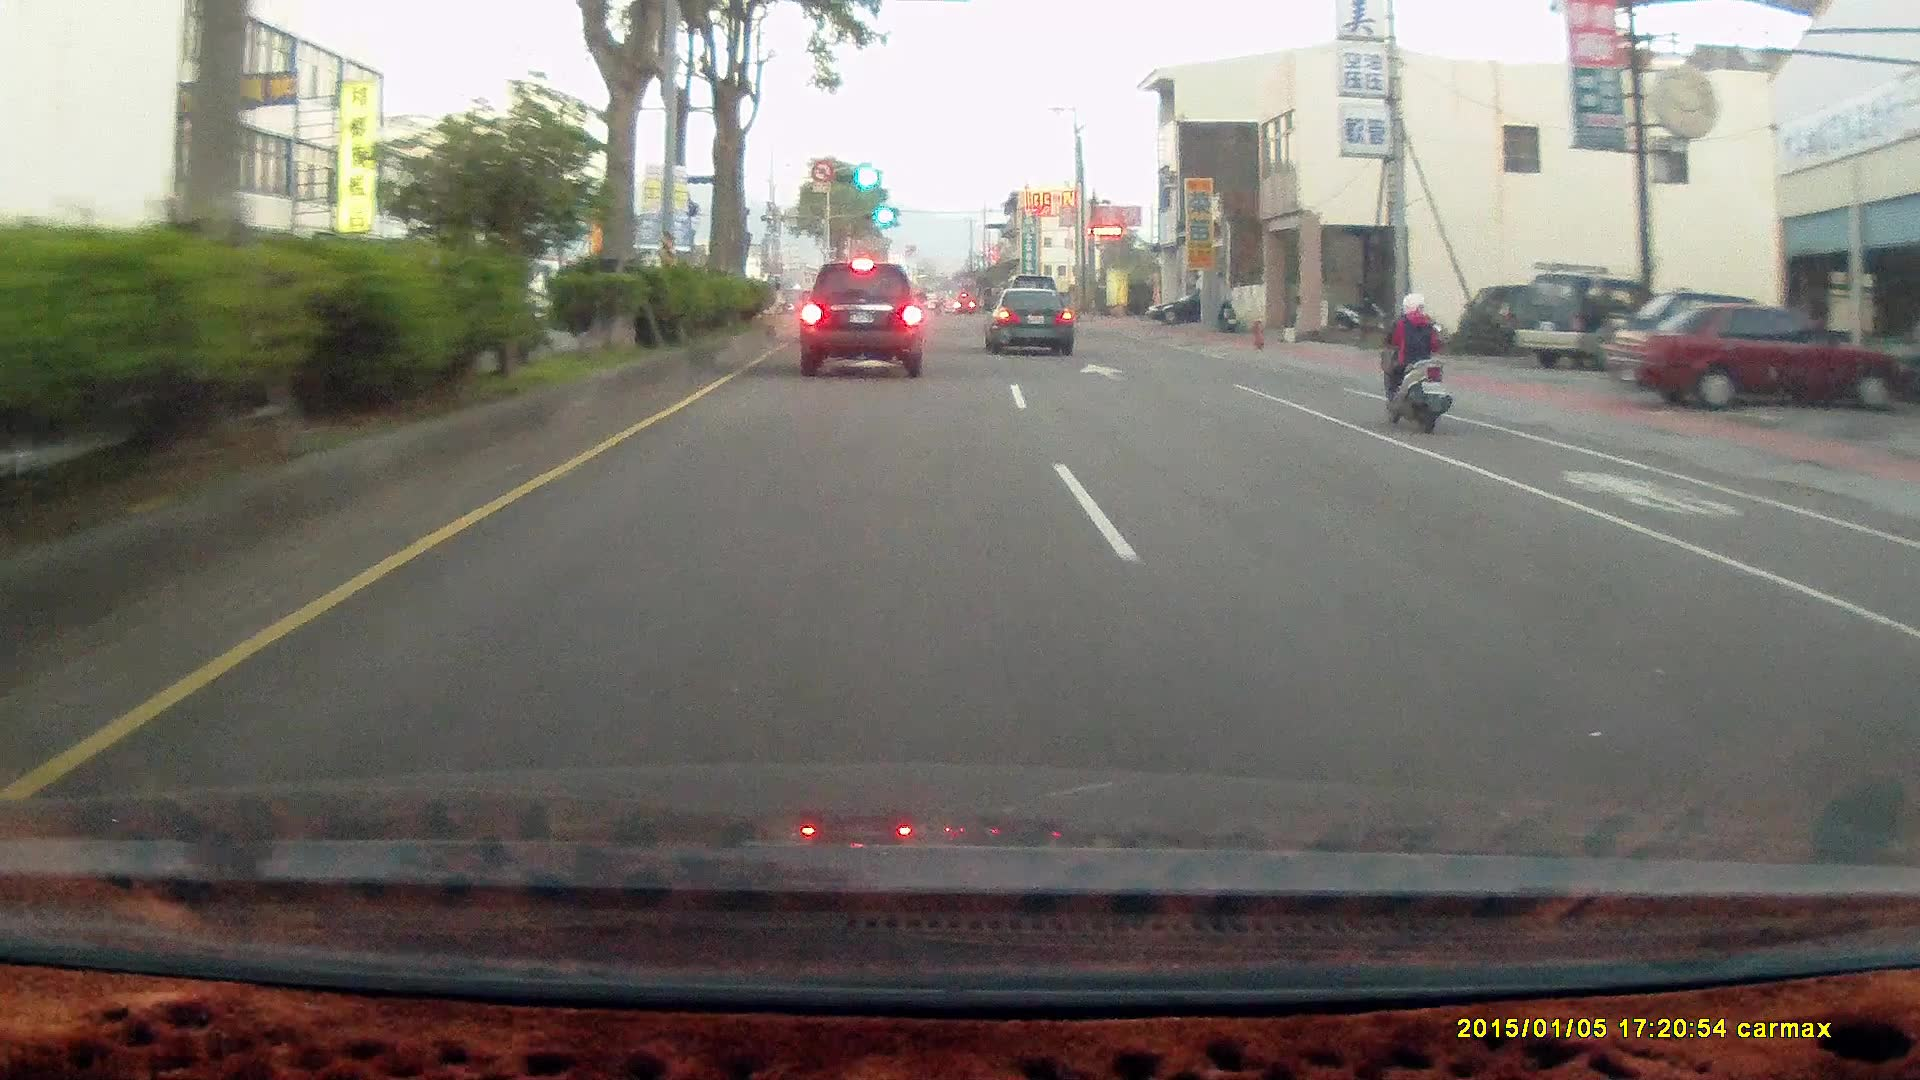rider: (1364, 282, 1465, 442), (1375, 286, 1451, 428)
vehicle: (1614, 297, 1907, 421), (1606, 300, 1907, 411), (1512, 274, 1674, 372), (803, 257, 928, 374), (800, 260, 925, 377), (1513, 270, 1656, 366), (983, 288, 1077, 356), (1455, 282, 1551, 350), (984, 285, 1074, 354), (1145, 288, 1233, 324), (1890, 321, 1919, 401), (1144, 288, 1202, 327)
